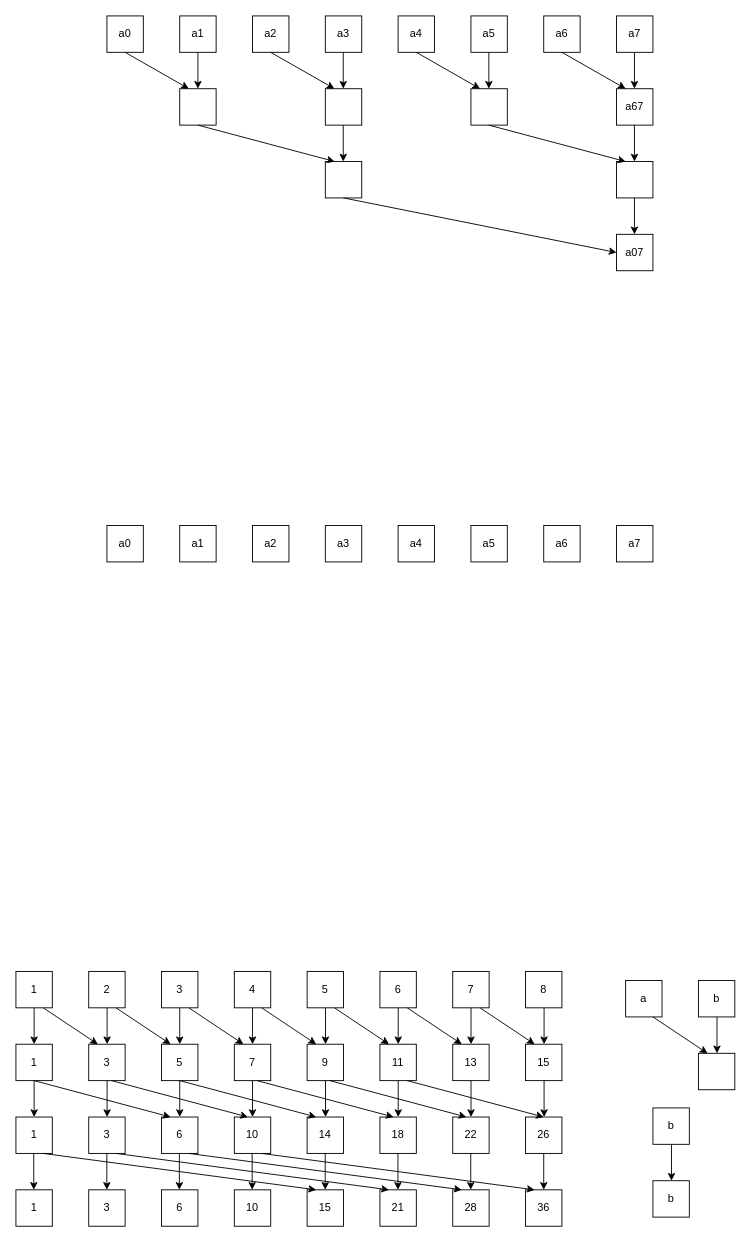
The diagram is 751 pixels wide and 1242 high, and some of its shapes have lost their labels. The shapes that lost their labels are listed below. From the top down, each one's box as (x1, y1, x2, y2) in pixels, then its label:
(179, 88, 216, 125): a01
(324, 88, 362, 125): a23
(470, 88, 507, 125): a45
(324, 161, 362, 198): a03
(616, 161, 653, 198): a47
(698, 1052, 735, 1090): a+b
